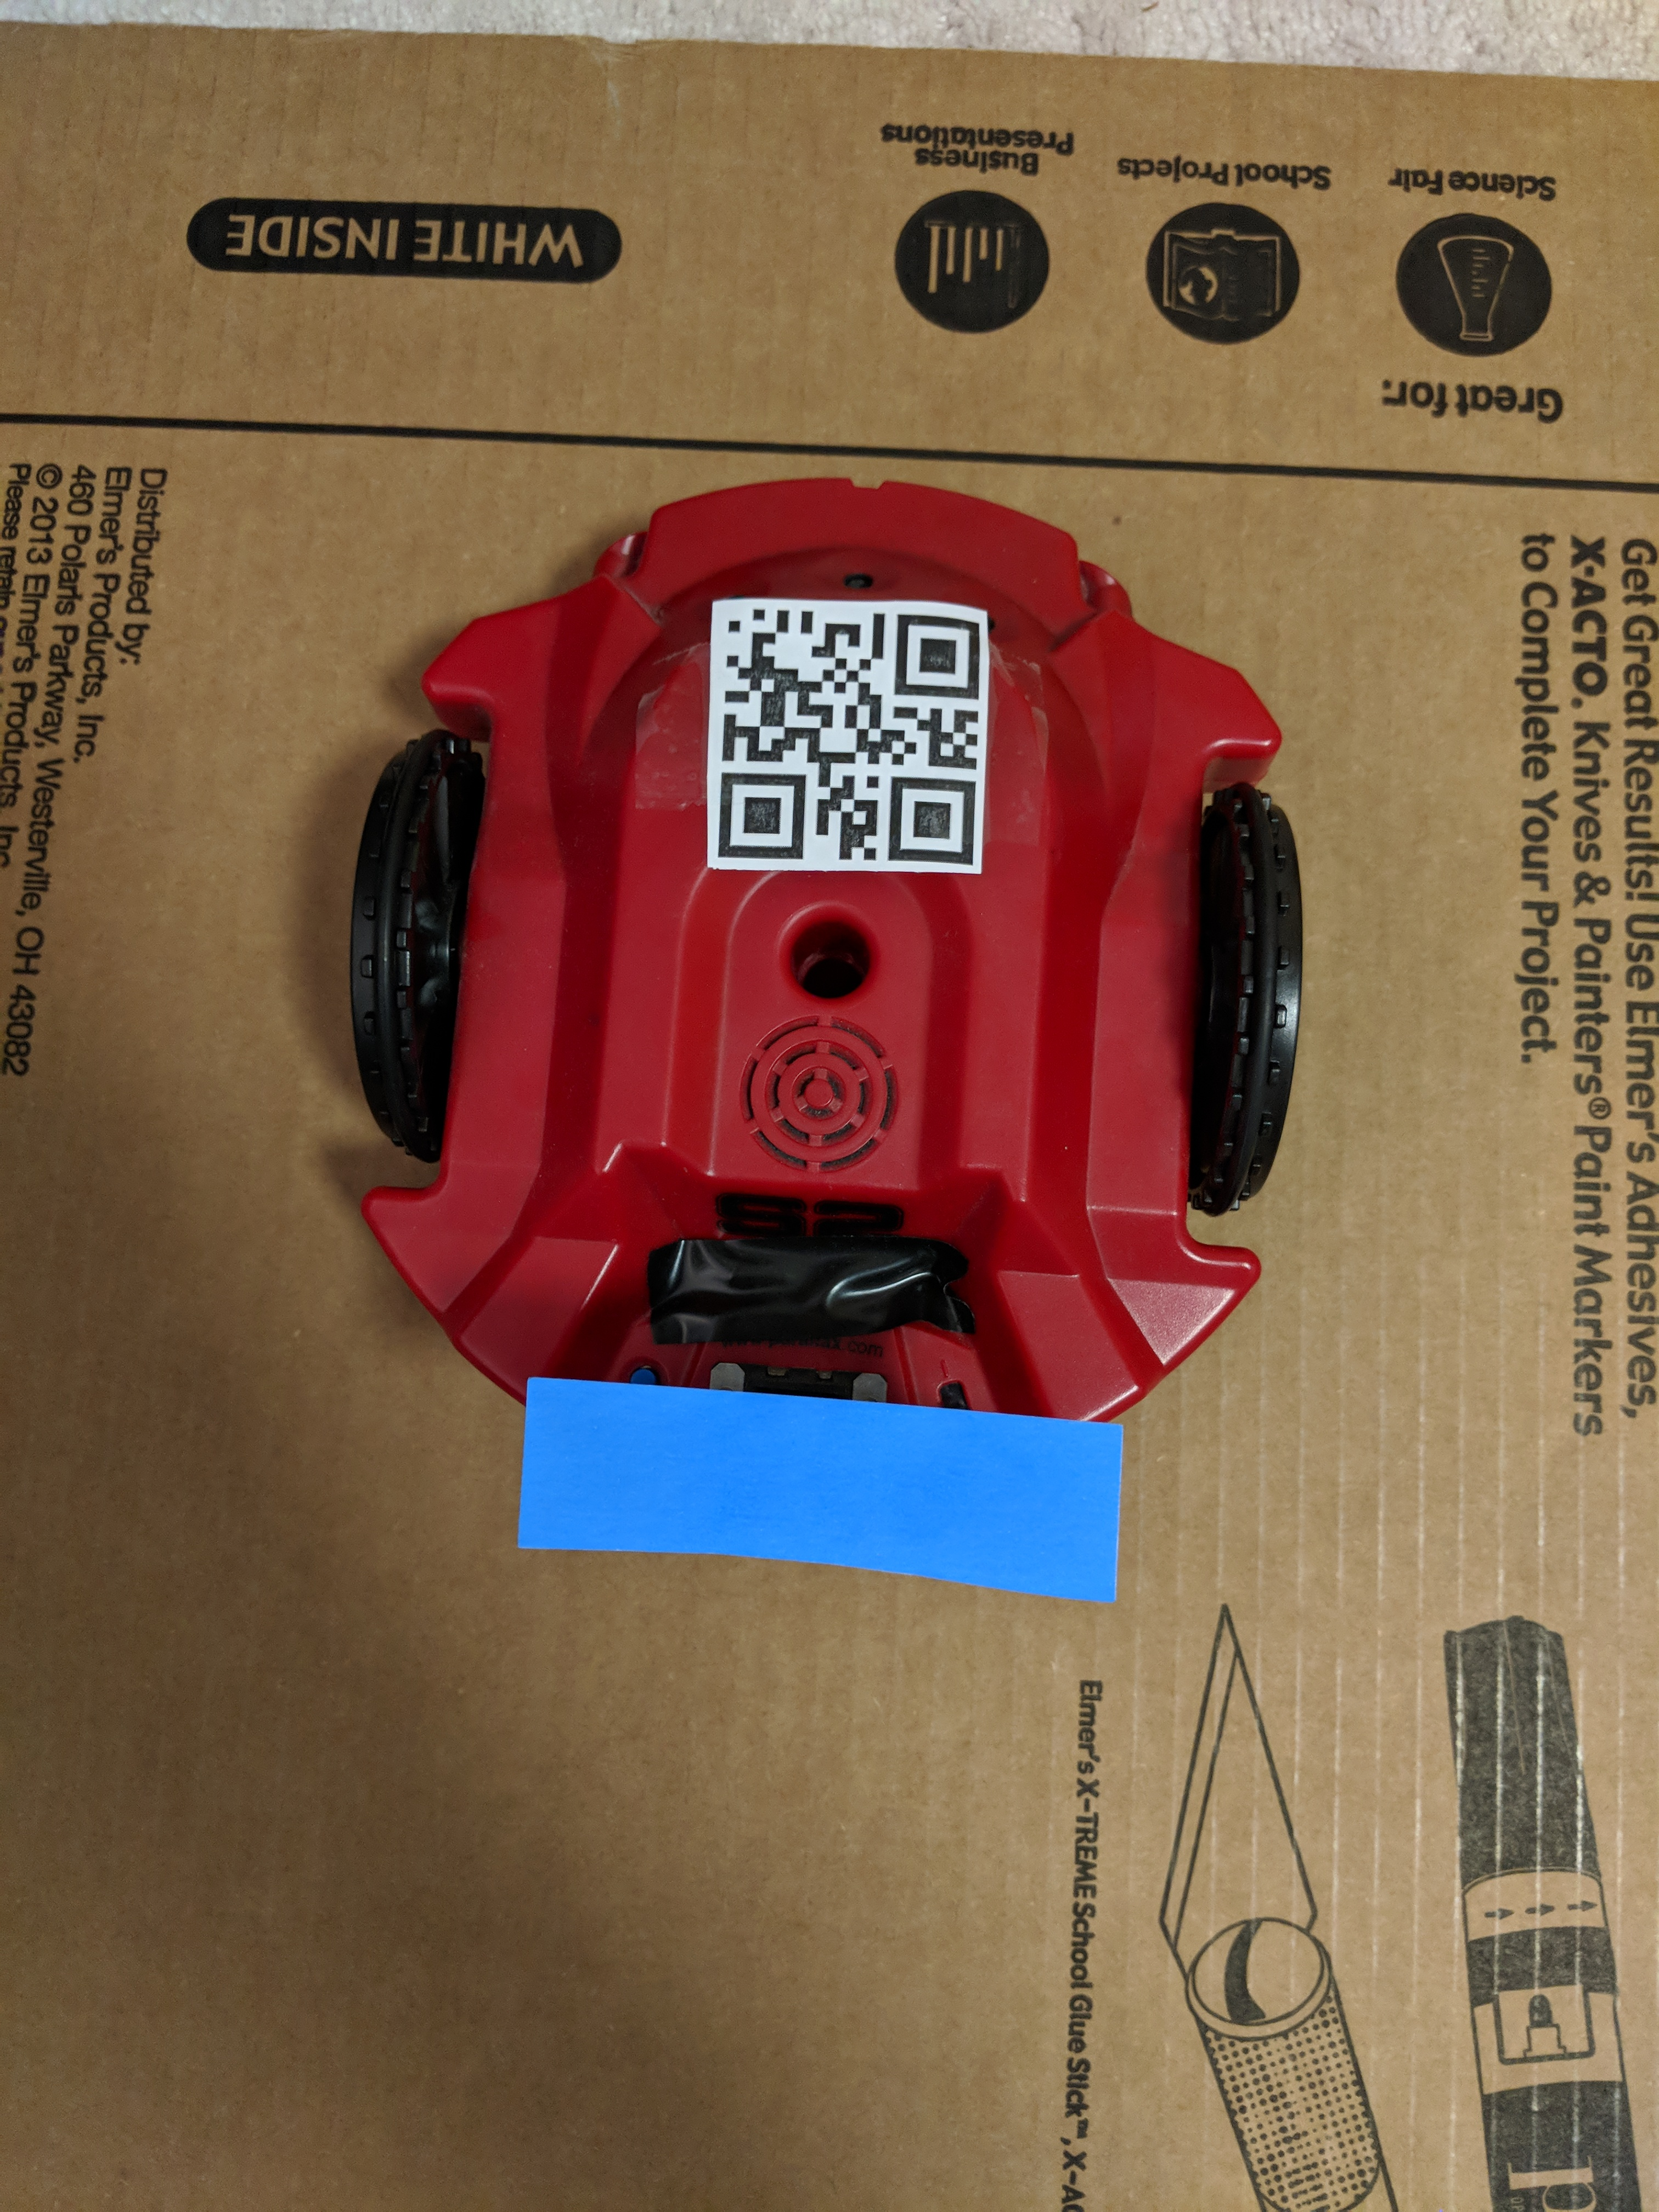chassis: (342, 428, 1328, 1609)
qr: (697, 573, 997, 880)
